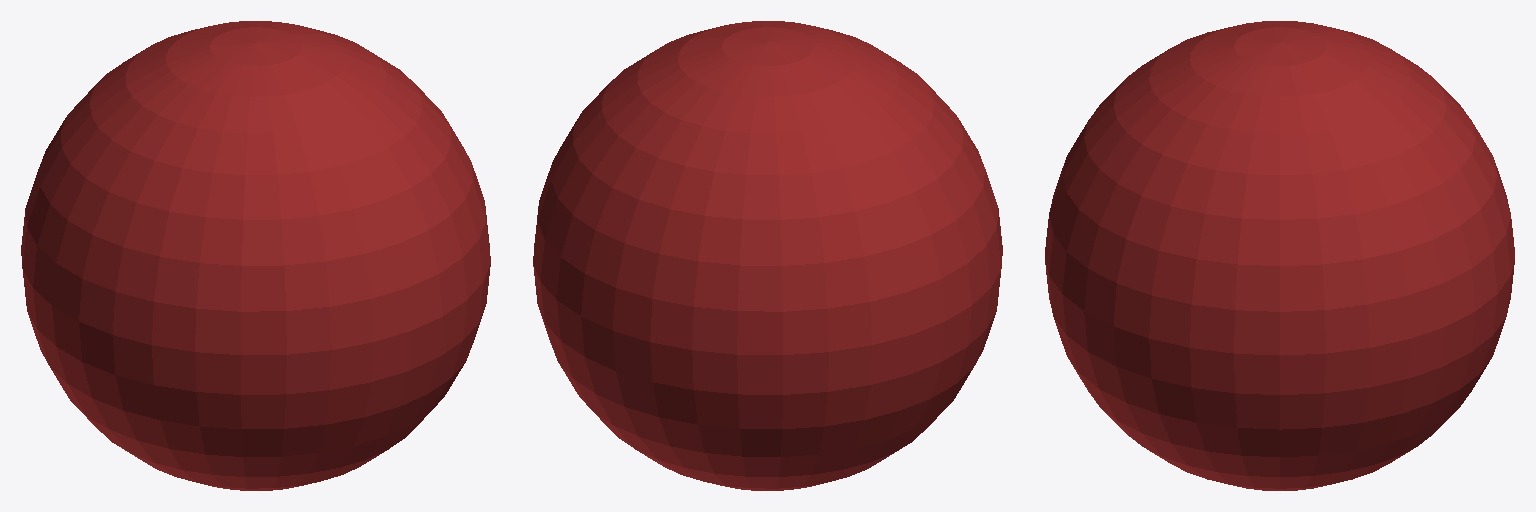
The model's file is enemy.obj.
3 views of the same model, side by side, from view 1: azimuth 30°, elevation 25°; view 2: azimuth 150°, elevation 25°; view 3: azimuth 270°, elevation 25° (orthographic).
Parts seen in each view (by area): view 1: default; view 2: default; view 3: default.
Part boxes in pixels (x1,y1,x2,y2): default: (21,21,490,490); default: (533,21,1002,490); default: (1045,21,1514,490).
Bounding box in the file's own units: 0.9869 × 0.9869 × 0.9869.